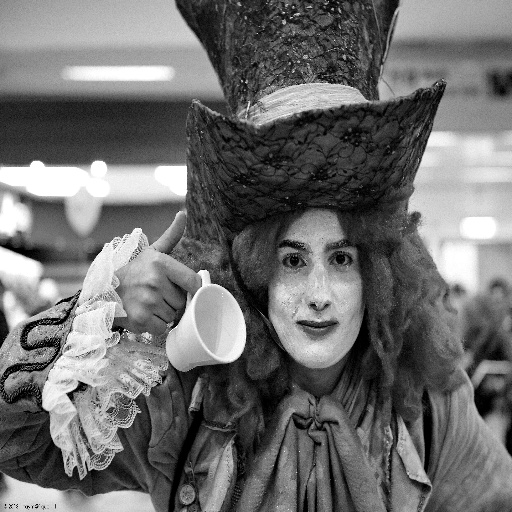hand: (102, 230, 201, 350)
